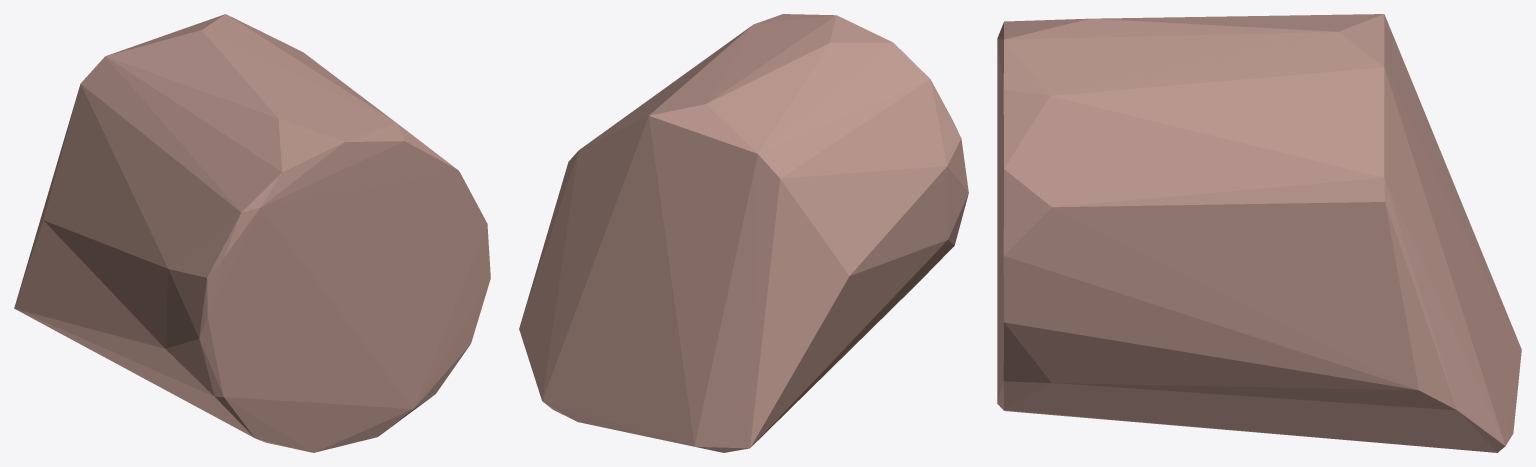
The model's file is pail_screwTop_white_glossy_a02.glb.
The picture shows the model from 3 angles, left to right: view 1: azimuth 30°, elevation 25°; view 2: azimuth 150°, elevation 25°; view 3: azimuth 270°, elevation 25°; orthographic projection. The views are drawn at different scales.
Visible parts, largest first — view 1: geometry_0; view 2: geometry_0; view 3: geometry_0.
Boxes of the visible parts, x1,y1,x2,y2 form: geometry_0: [14, 14, 490, 452]; geometry_0: [519, 14, 968, 452]; geometry_0: [997, 14, 1521, 452].
Bounding box in the file's own units: 0.3902 × 0.3674 × 0.48.
